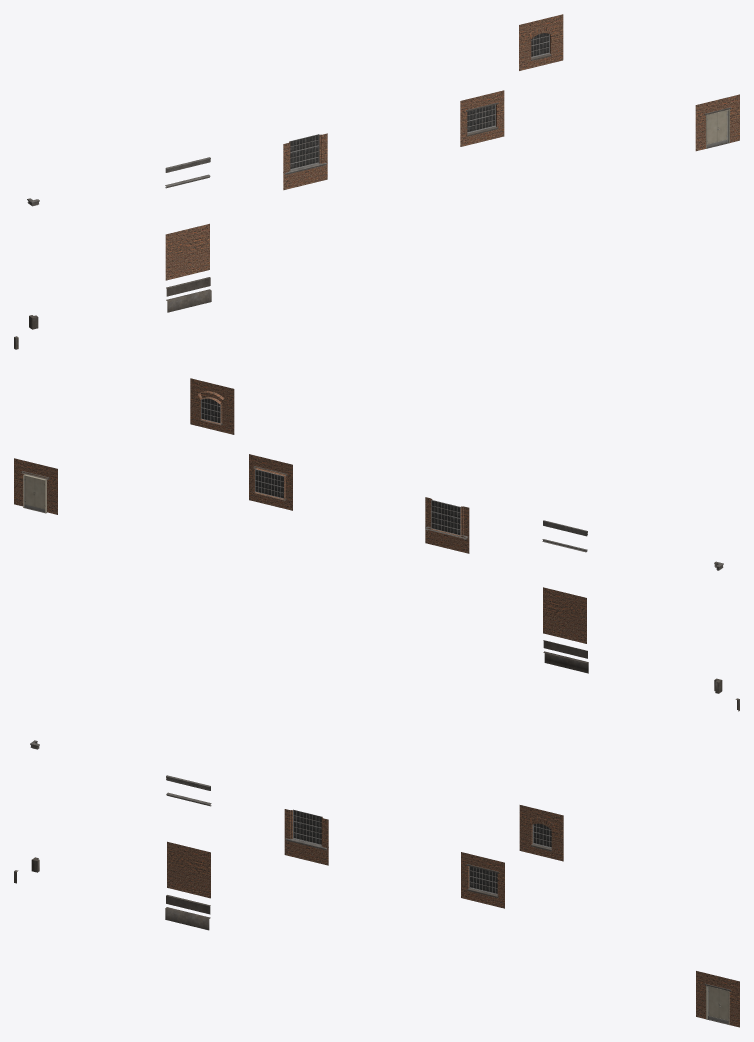
Rendered from kit_factory.glb.
3 renders of one model, top to bottom at view 1: azimuth 30°, elevation 25°; view 2: azimuth 150°, elevation 25°; view 3: azimuth 330°, elevation 25°, orthographic.
Visible parts, largest first — view 1: wall_standard_standard_01, wall_window_centered_medium_02, wall_window_centered_large_01, wall_door_centered_large_01, wall_window_tall_large_01, window_tall_large_01, door_centered_large_01, window_centered_large_01, base_standard_standard_01; view 2: wall_standard_standard_01, wall_window_centered_medium_02, wall_window_centered_large_01, wall_door_centered_large_01, wall_window_tall_large_01, window_tall_large_01, door_centered_large_01, window_centered_large_01, base_standard_standard_01; view 3: wall_standard_standard_01, wall_window_centered_medium_02, wall_window_centered_large_01, wall_door_centered_large_01, wall_window_tall_large_01, window_tall_large_01, door_centered_large_01, window_centered_large_01, base_standard_standard_01, window_centered_medium_02.
Part boxes in pixels (left/top/right/bottom): wall_standard_standard_01: left=165, top=223, right=209, bottom=280; wall_window_centered_medium_02: left=519, top=14, right=563, bottom=70; wall_window_centered_large_01: left=460, top=90, right=504, bottom=146; wall_door_centered_large_01: left=695, top=94, right=739, bottom=151; wall_window_tall_large_01: left=283, top=133, right=327, bottom=190; window_tall_large_01: left=283, top=134, right=326, bottom=174; door_centered_large_01: left=704, top=107, right=731, bottom=148; window_centered_large_01: left=466, top=102, right=498, bottom=136; base_standard_standard_01: left=166, top=289, right=211, bottom=312; wall_standard_standard_01: left=543, top=587, right=586, bottom=643; wall_window_centered_medium_02: left=190, top=378, right=234, bottom=434; wall_window_centered_large_01: left=249, top=454, right=292, bottom=510; wall_door_centered_large_01: left=14, top=458, right=57, bottom=514; wall_window_tall_large_01: left=425, top=497, right=469, bottom=553; window_tall_large_01: left=425, top=500, right=467, bottom=539; door_centered_large_01: left=21, top=471, right=49, bottom=513; window_centered_large_01: left=253, top=466, right=287, bottom=500; base_standard_standard_01: left=543, top=651, right=588, bottom=673; wall_standard_standard_01: left=167, top=841, right=210, bottom=898; wall_window_centered_medium_02: left=519, top=805, right=563, bottom=861; wall_window_centered_large_01: left=461, top=852, right=504, bottom=908; wall_door_centered_large_01: left=696, top=971, right=739, bottom=1027; wall_window_tall_large_01: left=284, top=809, right=328, bottom=865; window_tall_large_01: left=285, top=809, right=328, bottom=850; door_centered_large_01: left=704, top=983, right=731, bottom=1025; window_centered_large_01: left=466, top=864, right=499, bottom=897; base_standard_standard_01: left=165, top=907, right=210, bottom=930; window_centered_medium_02: left=531, top=823, right=551, bottom=851.
Size of the model in its own units: 49.3 by 13 by 0.56.
6 materials, 6 textured.
